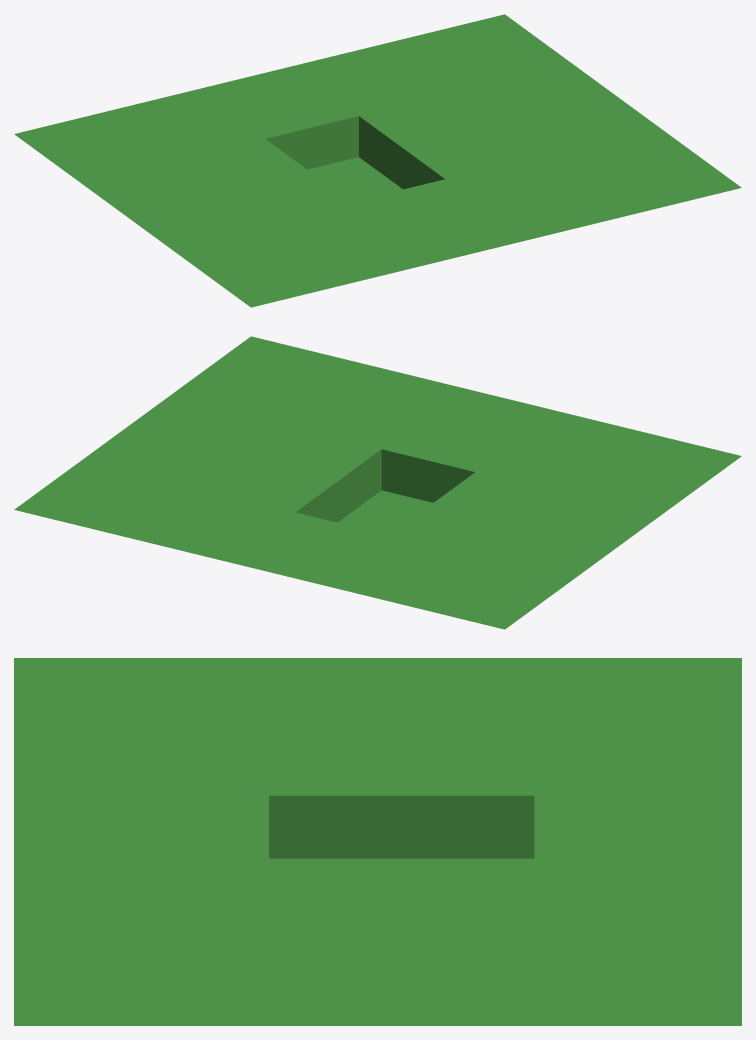
File: yesil_zemin.fbx
The picture shows the model from 3 angles, top to bottom: view 1: azimuth 30°, elevation 25°; view 2: azimuth 150°, elevation 25°; view 3: azimuth 270°, elevation 25°; orthographic projection. The views are drawn at different scales.
Parts seen in each view (by area): view 1: yesil_zemin; view 2: yesil_zemin; view 3: yesil_zemin.
Part boxes in pixels (box(x1,y1,x2,y2)): yesil_zemin: box(14, 14, 741, 307); yesil_zemin: box(14, 336, 741, 629); yesil_zemin: box(14, 658, 741, 1025).
Size of the model in its own units: 14346 by 1146 by 12000.
